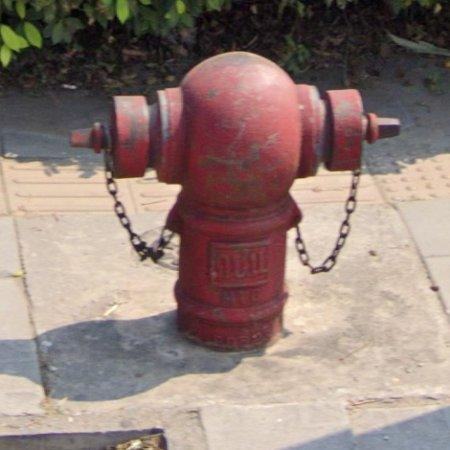a fire hydrant: (108, 52, 400, 351)
